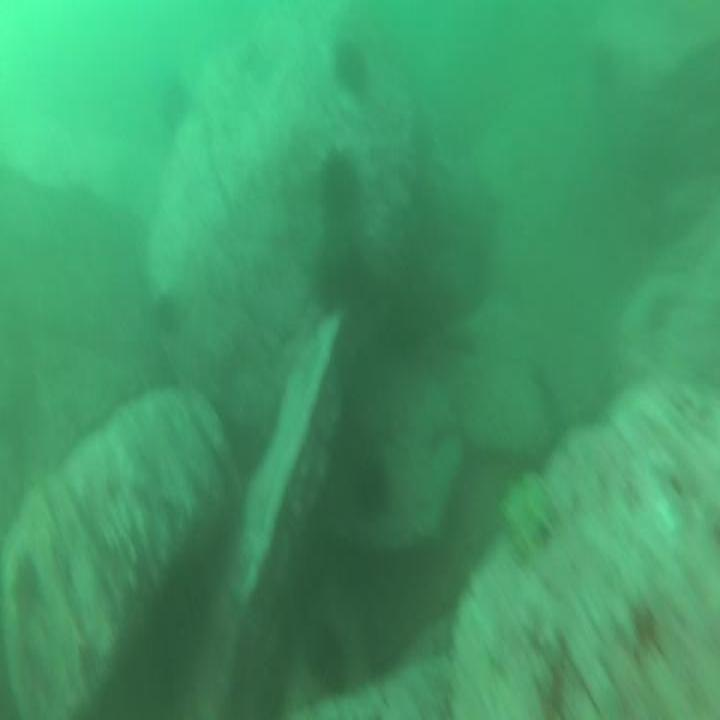echinus: (303, 236, 370, 318), (316, 144, 361, 236), (305, 619, 350, 697), (329, 32, 372, 110), (351, 450, 394, 524), (158, 73, 193, 140), (146, 288, 183, 340)
holothurian: (498, 464, 558, 558)
starfish: (4, 555, 45, 645)
